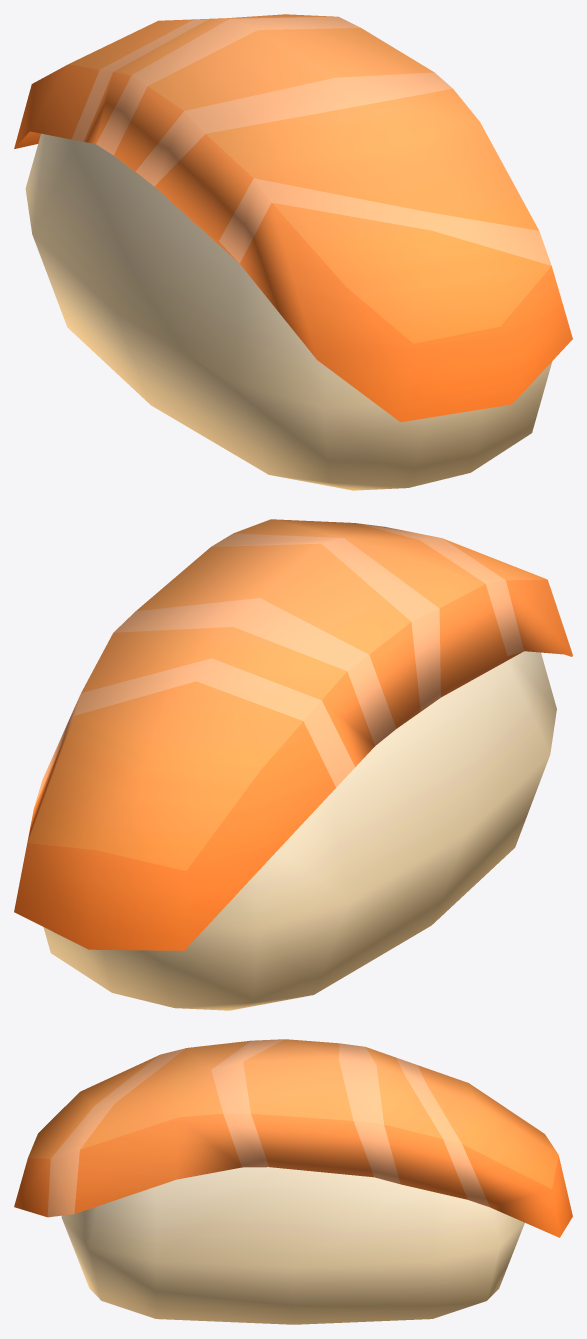
The model's file is Nigiri_Salmon_002.gltf.
The picture shows the model from 3 angles, top to bottom: view 1: azimuth 30°, elevation 25°; view 2: azimuth 150°, elevation 25°; view 3: azimuth 270°, elevation 25°; orthographic projection. The views are drawn at different scales.
Visible parts, largest first — view 1: Nigiri_Salmon_002_x; view 2: Nigiri_Salmon_002_x; view 3: Nigiri_Salmon_002_x.
Part boxes in pixels (<box>): Nigiri_Salmon_002_x: <box>14,14,572,490</box>; Nigiri_Salmon_002_x: <box>14,519,572,1010</box>; Nigiri_Salmon_002_x: <box>14,1039,572,1324</box>.
Size of the model in its own units: 0.576 by 0.5603 by 1.16.
Materials: 1 (1 with a texture image).
